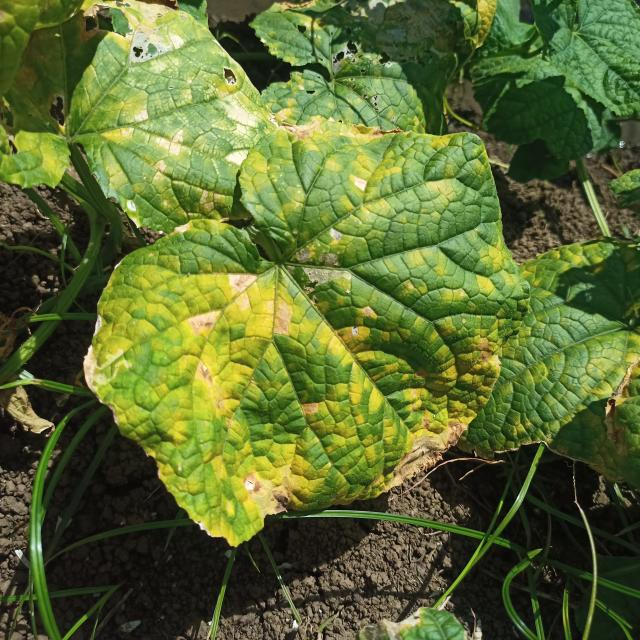disease_cucumber: (96, 122, 508, 542), (95, 11, 280, 230)
